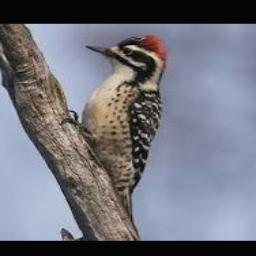Woodpecker: (61, 35, 170, 220)
